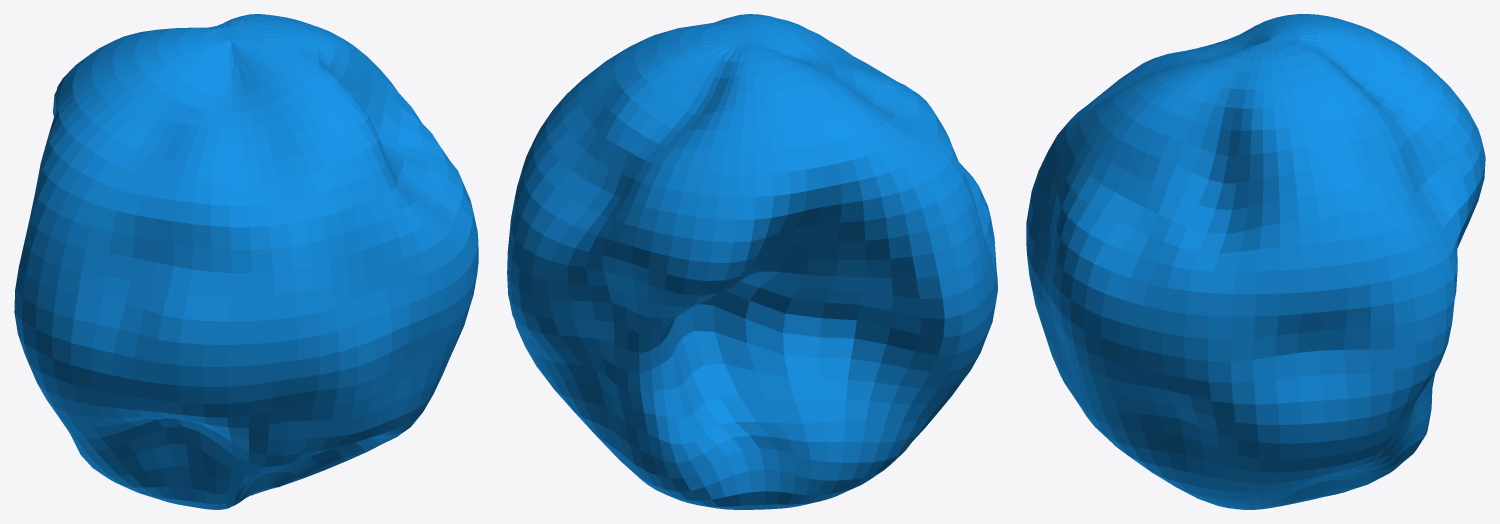
File: blob1.fbx
The picture shows the model from 3 angles, left to right: view 1: azimuth 30°, elevation 25°; view 2: azimuth 150°, elevation 25°; view 3: azimuth 270°, elevation 25°; orthographic projection.
Parts seen in each view (by area): view 1: Blob; view 2: Blob; view 3: Blob.
Part boxes in pixels (x1,y1,x2,y2): Blob: (14, 14, 478, 509); Blob: (507, 14, 997, 509); Blob: (1026, 14, 1485, 509).
Size of the model in its own units: 192 by 196 by 180.
